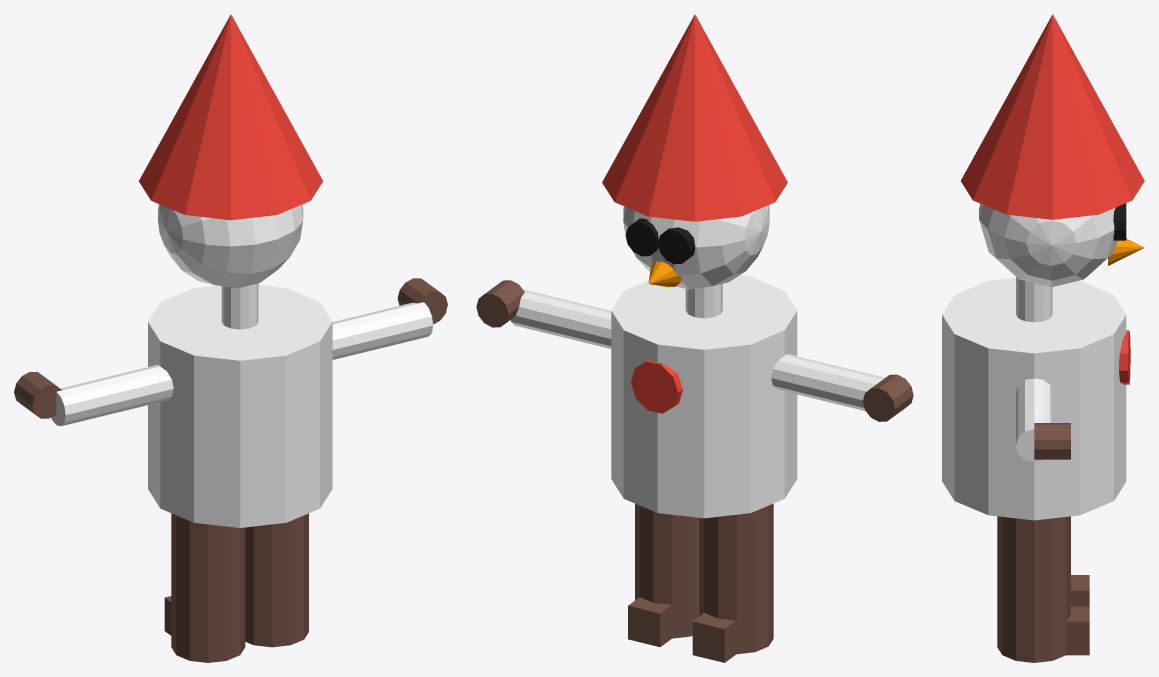
3 views of the same model, side by side, from view 1: azimuth 30°, elevation 25°; view 2: azimuth 150°, elevation 25°; view 3: azimuth 270°, elevation 25° (orthographic).
Visible parts, largest first — view 1: mesh_2091667758, mesh_2089732573, mesh_1486284312, mesh_1911259231, mesh_1157022678, mesh_1709433951, mesh_346855422, mesh_1424227222, mesh_1189900071, mesh_2079149173; view 2: mesh_2091667758, mesh_2089732573, mesh_1486284312, mesh_1157022678, mesh_1911259231, mesh_1709433951, mesh_346855422, group_1650996265, mesh_764218476, mesh_1534622919, mesh_1189900071, mesh_2079149173 (+4 smaller); view 3: mesh_2091667758, mesh_2089732573, mesh_1157022678, mesh_1911259231, mesh_346855422, mesh_1424227222, mesh_2079149173, mesh_1534622919, mesh_764218476, group_1650996265, mesh_707693719, mesh_916857181.
Boxes of the visible parts, x1=… form: mesh_2091667758: x1=148, y1=285, x2=332, y2=527; mesh_2089732573: x1=139, y1=14, x2=322, y2=220; mesh_1486284312: x1=171, y1=513, x2=245, y2=662; mesh_1911259231: x1=158, y1=204, x2=303, y2=288; mesh_1157022678: x1=245, y1=513, x2=308, y2=647; mesh_1709433951: x1=51, y1=364, x2=173, y2=426; mesh_346855422: x1=332, y1=302, x2=433, y2=359; mesh_1424227222: x1=221, y1=283, x2=258, y2=329; mesh_1189900071: x1=14, y1=372, x2=61, y2=418; mesh_2079149173: x1=397, y1=278, x2=447, y2=324; mesh_2091667758: x1=611, y1=275, x2=797, y2=518; mesh_2089732573: x1=602, y1=14, x2=787, y2=221; mesh_1486284312: x1=699, y1=503, x2=773, y2=654; mesh_1157022678: x1=635, y1=503, x2=699, y2=638; mesh_1911259231: x1=623, y1=205, x2=769, y2=289; mesh_1709433951: x1=771, y1=354, x2=884, y2=411; mesh_346855422: x1=510, y1=289, x2=611, y2=348; group_1650996265: x1=631, y1=360, x2=682, y2=413; mesh_764218476: x1=692, y1=613, x2=736, y2=662; mesh_1534622919: x1=628, y1=597, x2=671, y2=646; mesh_1189900071: x1=863, y1=374, x2=913, y2=421; mesh_2079149173: x1=476, y1=280, x2=524, y2=327; mesh_2091667758: x1=942, y1=277, x2=1126, y2=520; mesh_2089732573: x1=961, y1=14, x2=1144, y2=219; mesh_1157022678: x1=997, y1=516, x2=1070, y2=662; mesh_1911259231: x1=979, y1=203, x2=1117, y2=287; mesh_346855422: x1=1016, y1=378, x2=1052, y2=462; mesh_1424227222: x1=1016, y1=277, x2=1052, y2=322; mesh_2079149173: x1=1034, y1=423, x2=1070, y2=459; mesh_1534622919: x1=1066, y1=606, x2=1089, y2=655; mesh_764218476: x1=1071, y1=575, x2=1089, y2=606; group_1650996265: x1=1119, y1=330, x2=1130, y2=384; mesh_707693719: x1=1108, y1=238, x2=1144, y2=265; mesh_916857181: x1=1113, y1=203, x2=1126, y2=240.
Bounding box in the file's own units: 26 × 37 × 11.
